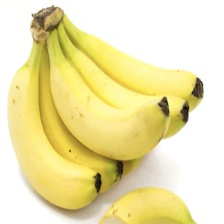banana: (7, 0, 177, 201)
